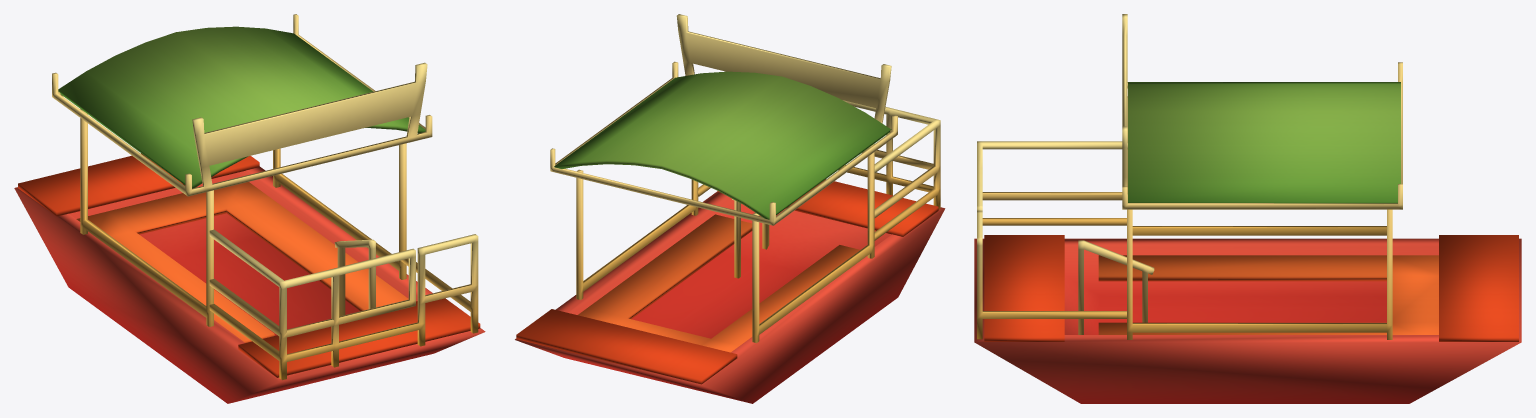
The model's file is bote.fbx.
3 renders of one model, left to right at view 1: azimuth 30°, elevation 25°; view 2: azimuth 150°, elevation 25°; view 3: azimuth 270°, elevation 25°, orthographic. The views are drawn at different scales.
Visible parts, largest first — view 1: bote; view 2: bote; view 3: bote.
Part boxes in pixels (x1,y1,x2,y2): bote: (14,14,485,403); bote: (515,14,945,403); bote: (974,14,1521,403).
Bounding box in the file's own units: 183 × 194 × 344.
Materials: 1 (1 with a texture image).
